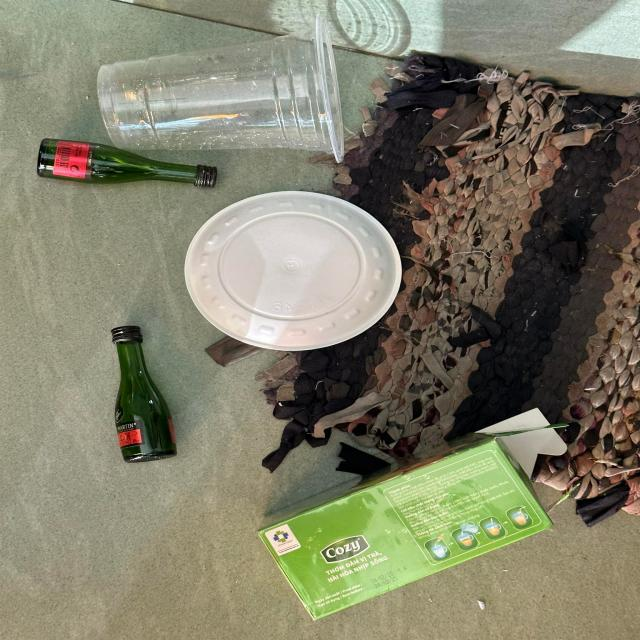bottle: (111, 326, 180, 462), (36, 138, 218, 188)
cardboard box: (256, 408, 568, 622)
plastic glass: (97, 14, 345, 163)
plastic holder: (184, 190, 403, 350)
